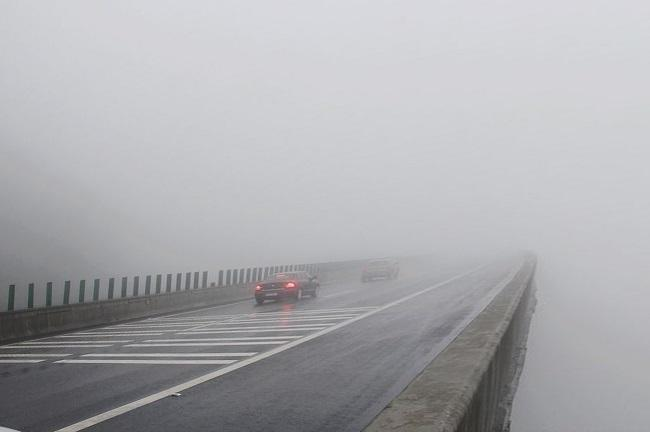car: (255, 271, 323, 303), (361, 258, 401, 283)
